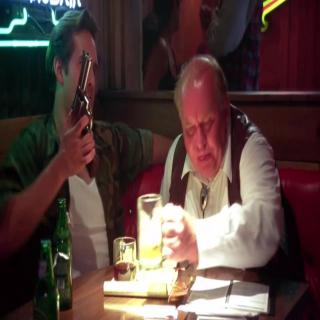gun: (68, 47, 97, 165)
